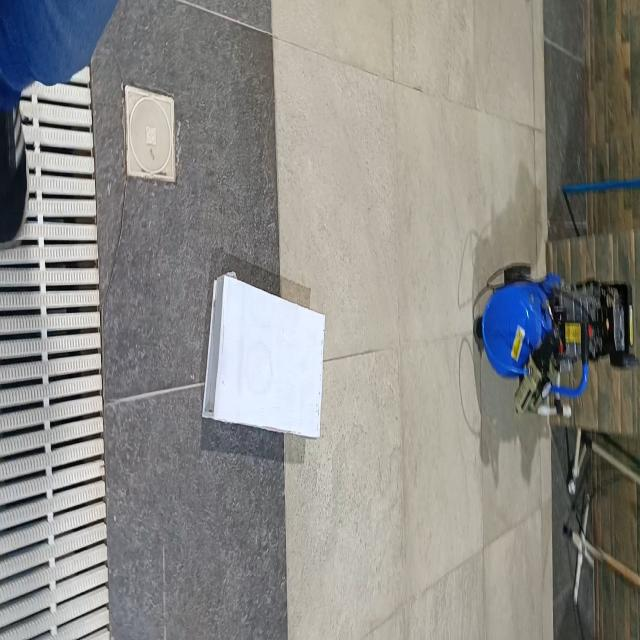Cuboid: (202, 272, 326, 439)
